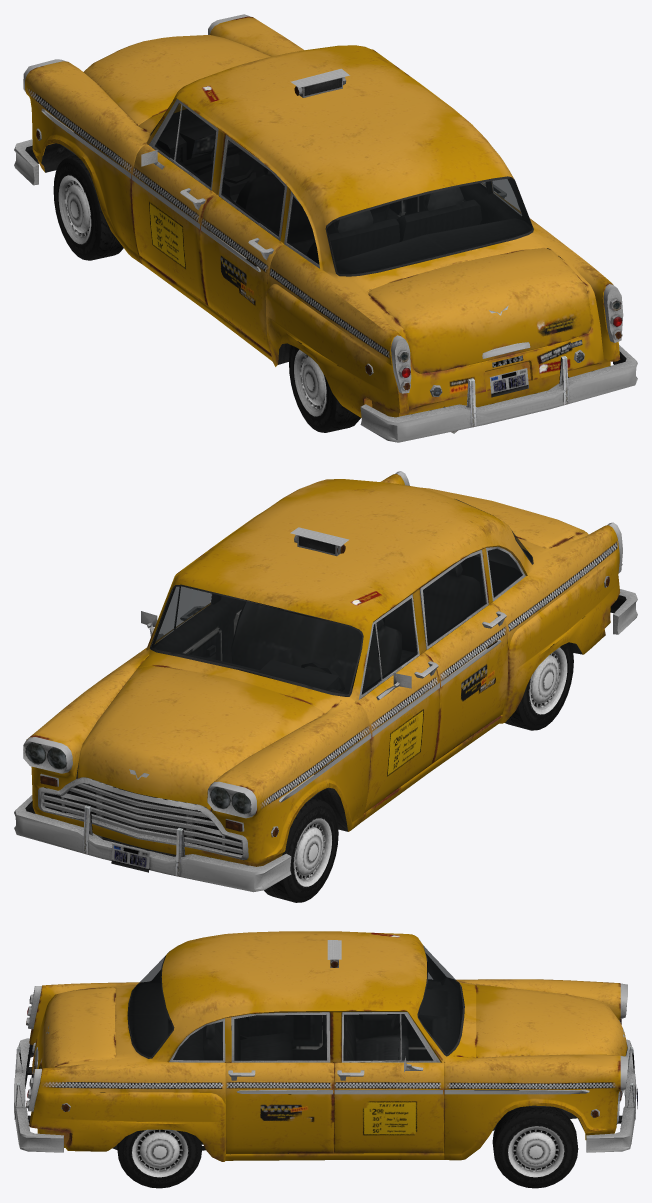
Rendered from canyon_taxi.glb.
3 renders of one model, top to bottom at view 1: azimuth 30°, elevation 25°; view 2: azimuth 150°, elevation 25°; view 3: azimuth 270°, elevation 25°, orthographic. The views are drawn at different scales.
Visible parts, largest first — view 1: Body, Trim, Glass, Interior, WheelFL, WheelRL; view 2: Body, Trim, Glass, Interior, WheelFL, WheelRL, LightsFront; view 3: Body, Glass, Interior, Trim, WheelFR, WheelRR.
Boxes of the visible parts, <box> form: Body: <box>25,16,620,417</box>; Trim: <box>14,14,637,442</box>; Glass: <box>154,103,532,274</box>; Interior: <box>152,109,532,274</box>; WheelFL: <box>53,155,123,260</box>; WheelRL: <box>289,345,360,432</box>; Body: <box>26,474,620,866</box>; Trim: <box>14,471,637,892</box>; Glass: <box>151,532,532,694</box>; Interior: <box>151,548,532,698</box>; WheelFL: <box>264,798,338,902</box>; WheelRL: <box>505,642,573,730</box>; LightsFront: <box>26,742,250,813</box>; Body: <box>29,931,627,1161</box>; Glass: <box>129,945,462,1060</box>; Interior: <box>129,954,462,1062</box>; Trim: <box>14,940,637,1154</box>; WheelFR: <box>492,1106,578,1188</box>; WheelRR: <box>117,1129,202,1188</box>.
Bounding box in the file's own units: 7.21 × 6.2 × 18.02.
6 materials, 5 textured.
